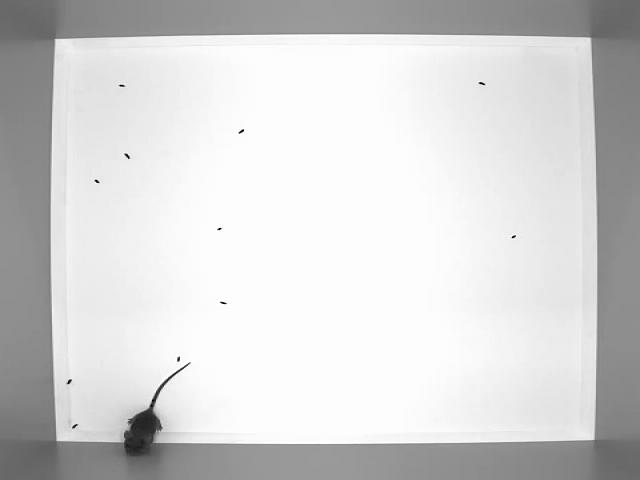Tikus: (124, 360, 193, 454)
